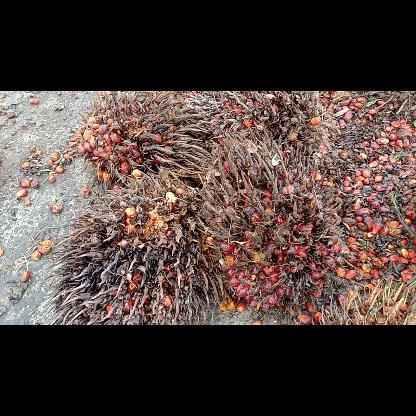Terlalu masak: (27, 168, 236, 324), (192, 126, 352, 324), (172, 90, 340, 186), (77, 91, 229, 185)
